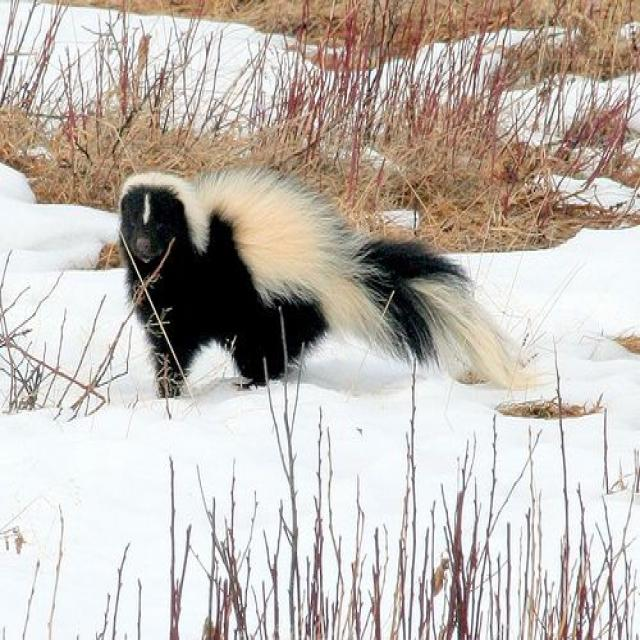Skunk: (110, 139, 525, 441)
